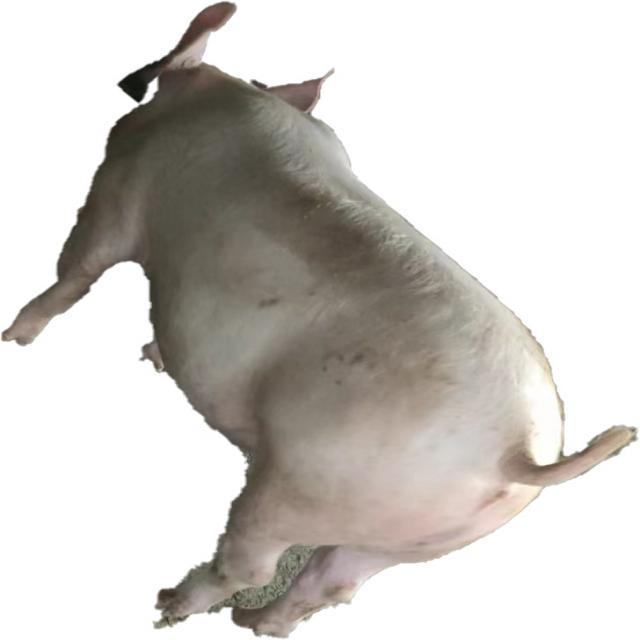pig: (2, 2, 636, 636)
